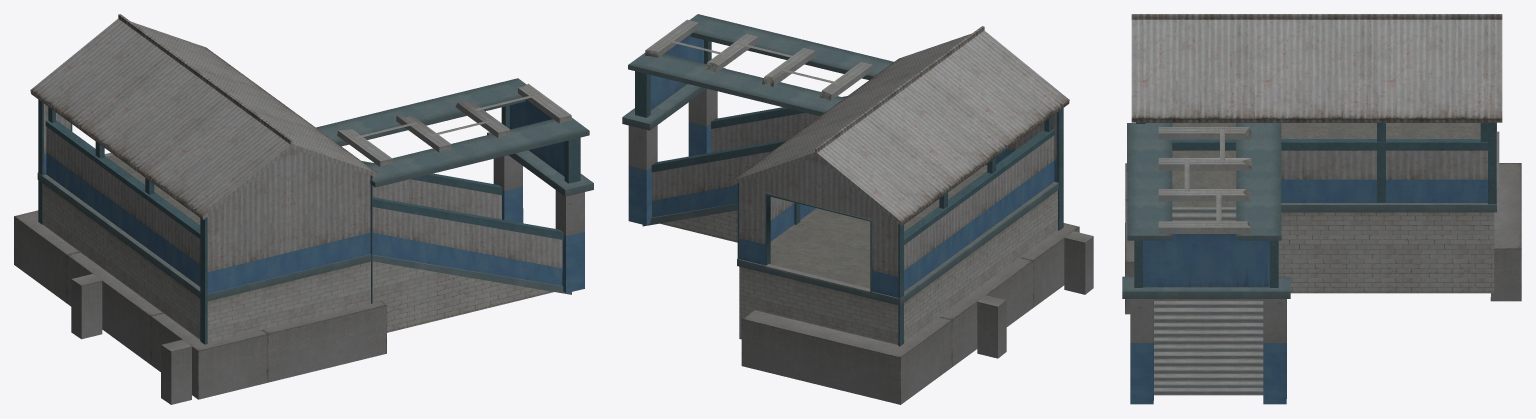
The model's file is Building_Fdc02_2048_lod1.glb.
3 renders of one model, left to right at view 1: azimuth 30°, elevation 25°; view 2: azimuth 150°, elevation 25°; view 3: azimuth 270°, elevation 25°, orthographic. The views are drawn at different scales.
Parts seen in each view (by area): view 1: xiutz_fdc_02_lod1; view 2: xiutz_fdc_02_lod1; view 3: xiutz_fdc_02_lod1.
Boxes of the visible parts, bbox=[...] form: xiutz_fdc_02_lod1: bbox=[14, 14, 593, 404]; xiutz_fdc_02_lod1: bbox=[622, 14, 1093, 404]; xiutz_fdc_02_lod1: bbox=[1122, 14, 1521, 404].
Size of the model in its own units: 22.9 by 12.56 by 17.71.
Materials: 1 (1 with a texture image).
